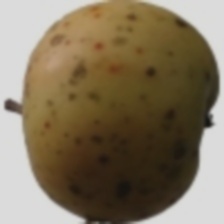apple: (37, 38, 189, 173)
